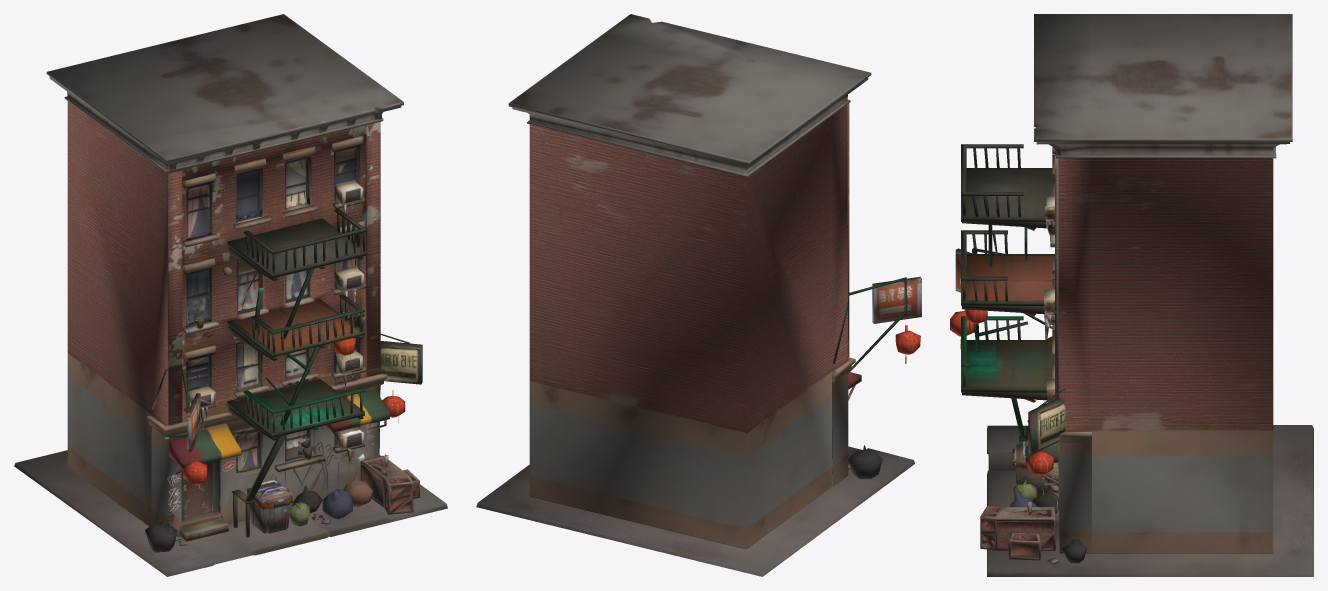
The picture shows the model from 3 angles, left to right: view 1: azimuth 30°, elevation 25°; view 2: azimuth 150°, elevation 25°; view 3: azimuth 270°, elevation 25°; orthographic projection. The views are drawn at different scales.
Visible parts, largest first — view 1: tripo_node_b95c4cd5-881a-4196-be77-6cfbac9e4f8d; view 2: tripo_node_b95c4cd5-881a-4196-be77-6cfbac9e4f8d; view 3: tripo_node_b95c4cd5-881a-4196-be77-6cfbac9e4f8d.
Part boxes in pixels (x1=…): tripo_node_b95c4cd5-881a-4196-be77-6cfbac9e4f8d: x1=14, y1=14, x2=447, y2=576; tripo_node_b95c4cd5-881a-4196-be77-6cfbac9e4f8d: x1=476, y1=14, x2=921, y2=576; tripo_node_b95c4cd5-881a-4196-be77-6cfbac9e4f8d: x1=950, y1=14, x2=1313, y2=576.
Size of the model in its own units: 0.7441 by 0.998 by 0.7715.
Materials: 1 (1 with a texture image).
